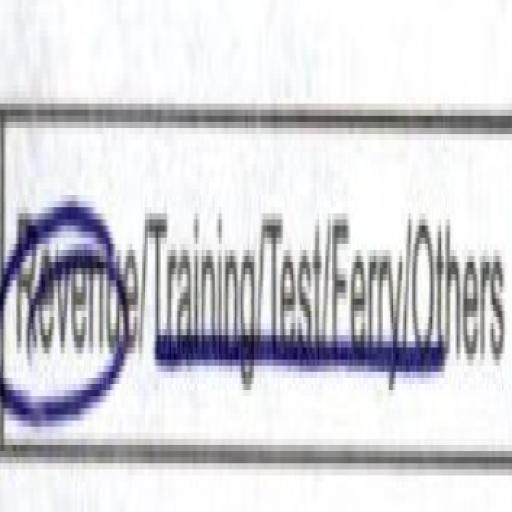check: (0, 18, 139, 506)
